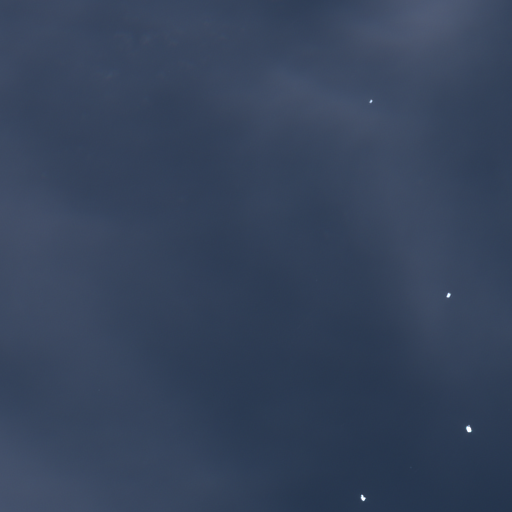Iceberg: (465, 424, 471, 432), (360, 494, 366, 500), (446, 292, 450, 297), (369, 99, 372, 103)
